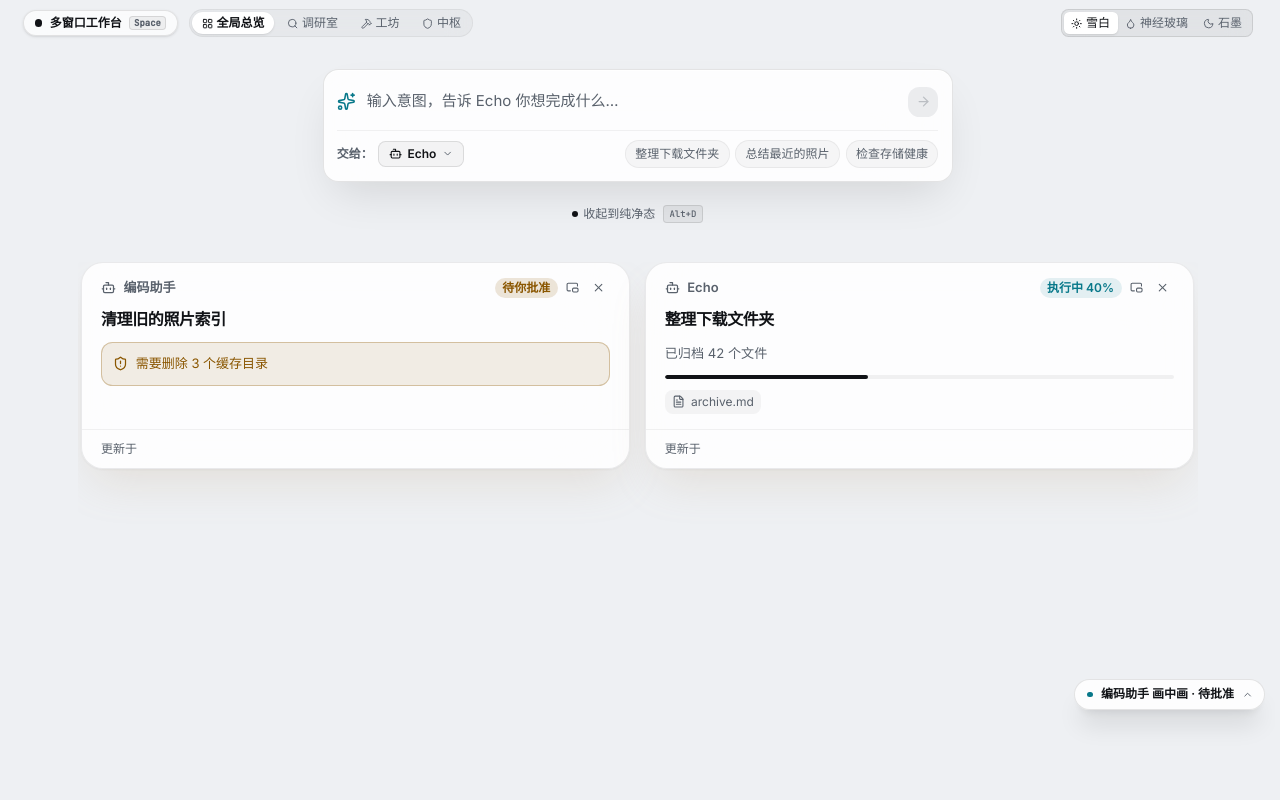
Scenario: IntentDesktopSurface › toggles mode on clicking blank backdrop surface
Click the element with test id "intent-desktop-surface".
click(638, 400)  # box [0, 0, 1275, 799]
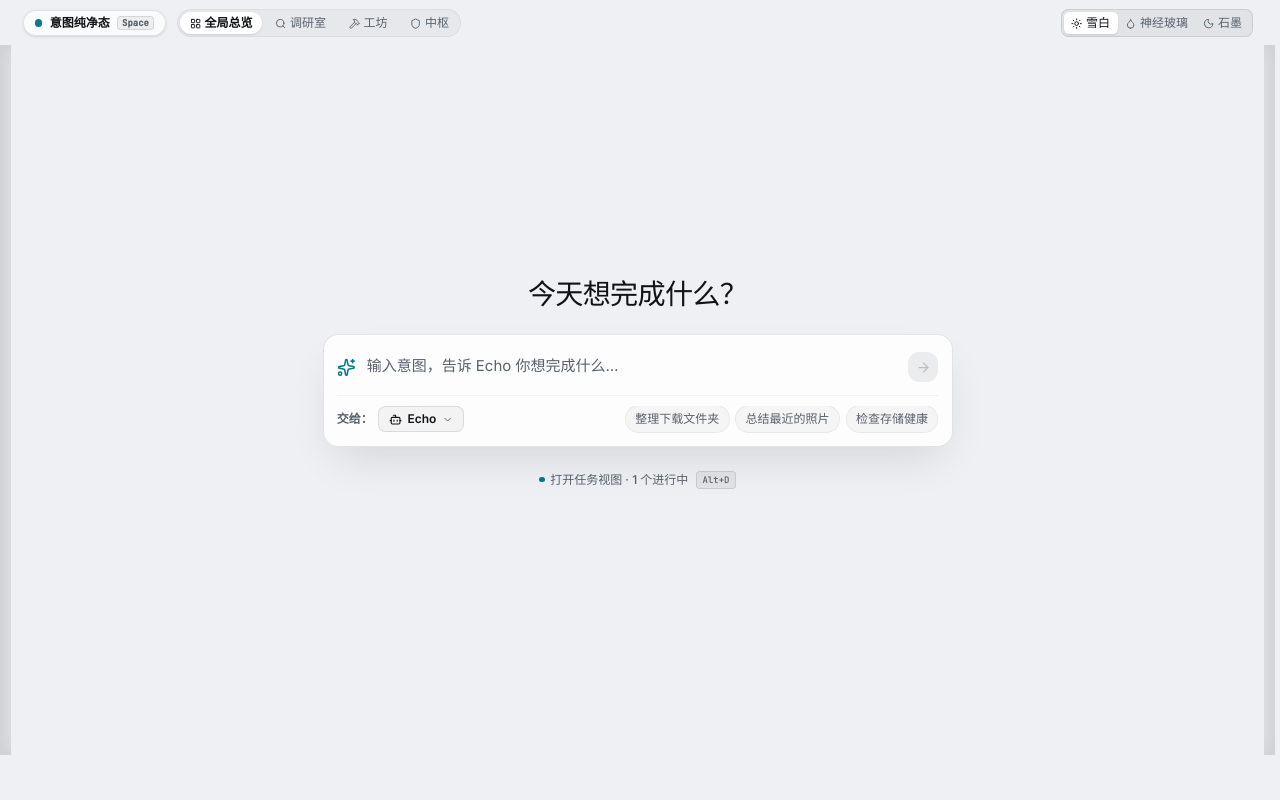
Expected: the text "意图纯净态" is shown, [50, 15, 110, 31]
